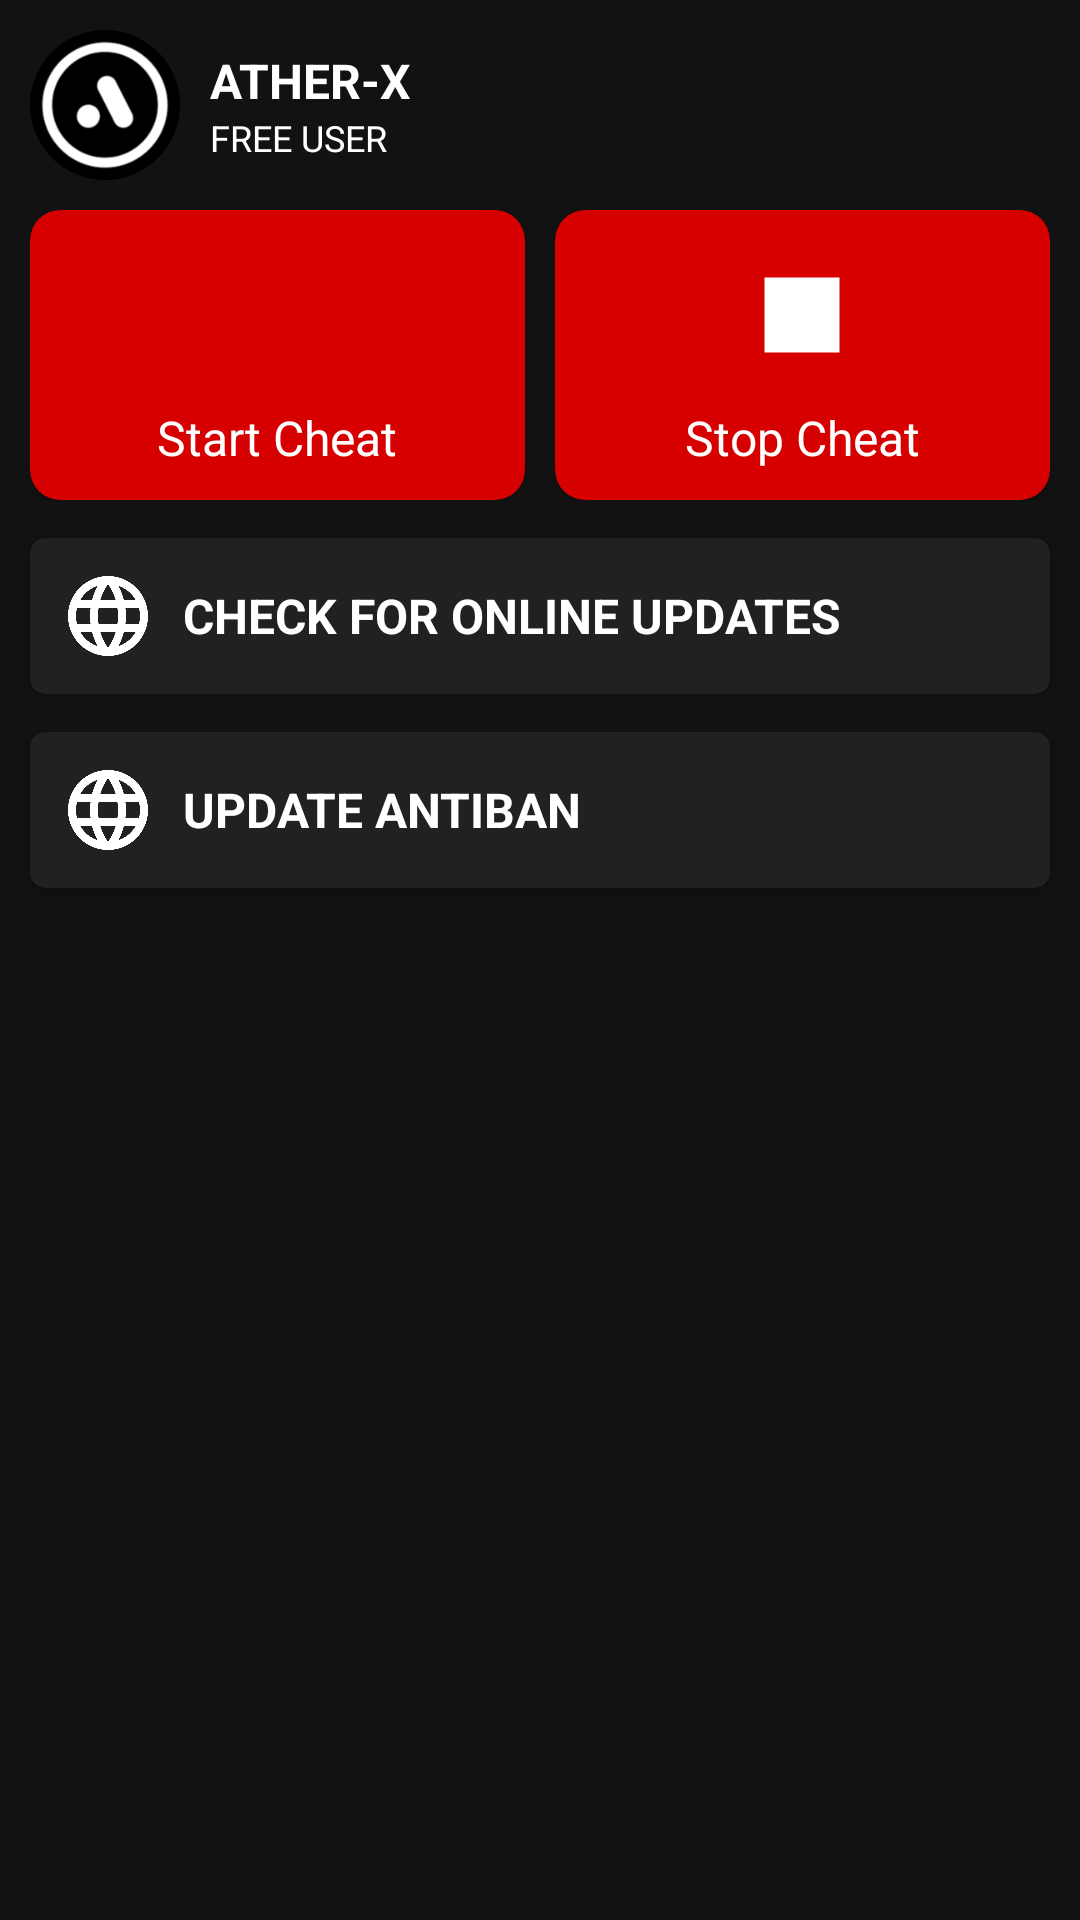

Where icons sit on this 1080x1920 app screen, as (x1, y1, x2, y2):
web: (68, 576, 148, 656), (68, 770, 148, 850)
